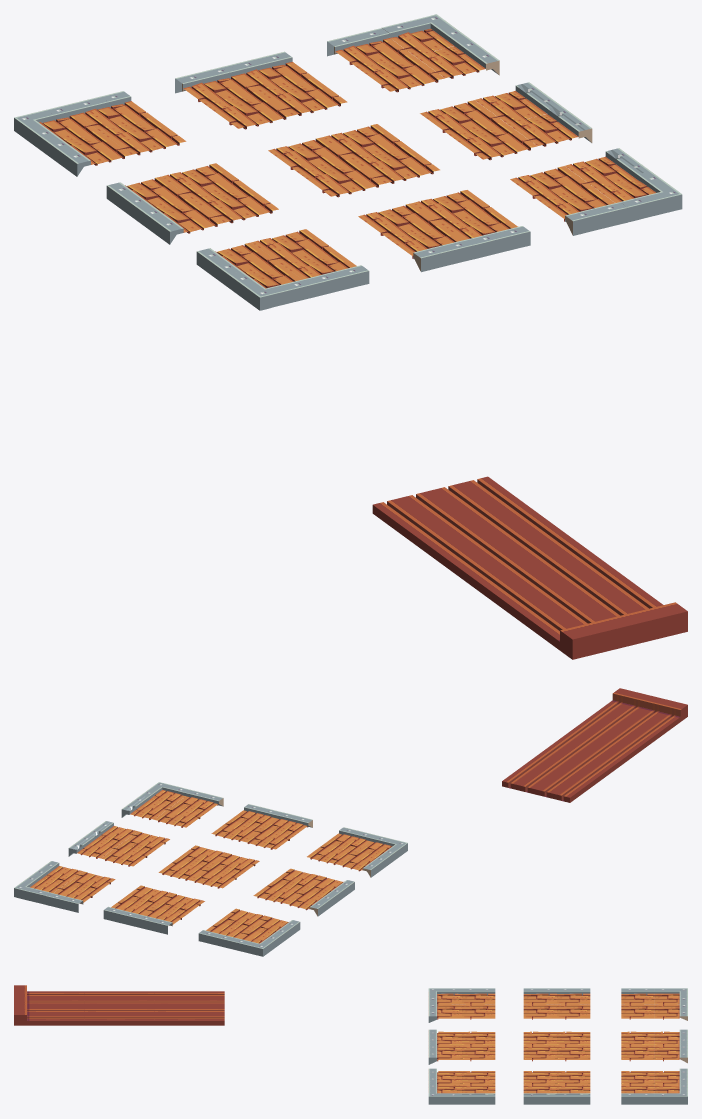
The model's file is TileSET.fbx.
3 views of the same model, one above another, from view 1: azimuth 30°, elevation 25°; view 2: azimuth 150°, elevation 25°; view 3: azimuth 270°, elevation 25° (orthographic). The views are drawn at different scales.
Parts seen in each view (by area): view 1: Bawahan1.002, CornerBRKayu, CornerTRKayu, CornerBLKayu, RightKayu, CornertTLKayu, BottomKayu, LeftKayu, TopKayu, Kayu; view 2: Bawahan1.002, CornerBLKayu, CornertTLKayu, LeftKayu, CornerBRKayu, CornerTRKayu, BottomKayu, RightKayu, TopKayu, Kayu; view 3: Bawahan1.002, CornerTRKayu, TopKayu, CornertTLKayu, CornerBRKayu, BottomKayu, CornerBLKayu, RightKayu, LeftKayu, Kayu.
Part boxes in pixels (bbox=[...]): Bawahan1.002: bbox=[372, 476, 687, 659]; CornerBRKayu: bbox=[196, 229, 369, 310]; CornerTRKayu: bbox=[510, 148, 682, 235]; CornerBLKayu: bbox=[14, 91, 186, 176]; RightKayu: bbox=[358, 190, 530, 272]; CornertTLKayu: bbox=[327, 14, 499, 92]; BottomKayu: bbox=[106, 163, 278, 244]; LeftKayu: bbox=[175, 51, 347, 129]; TopKayu: bbox=[420, 82, 592, 160]; Kayu: bbox=[268, 124, 439, 197]; Bawahan1.002: bbox=[502, 688, 687, 802]; CornerBLKayu: bbox=[198, 908, 300, 956]; CornertTLKayu: bbox=[14, 861, 115, 912]; LeftKayu: bbox=[103, 885, 204, 934]; CornerBRKayu: bbox=[307, 827, 407, 877]; CornerTRKayu: bbox=[121, 782, 223, 827]; BottomKayu: bbox=[253, 868, 354, 916]; RightKayu: bbox=[211, 804, 312, 849]; TopKayu: bbox=[68, 821, 169, 866]; Kayu: bbox=[158, 845, 259, 888]; Bawahan1.002: bbox=[14, 985, 224, 1025]; CornerTRKayu: bbox=[428, 1068, 495, 1104]; TopKayu: bbox=[523, 1071, 590, 1104]; CornertTLKayu: bbox=[621, 1068, 687, 1104]; CornerBRKayu: bbox=[428, 988, 495, 1022]; BottomKayu: bbox=[523, 988, 590, 1019]; CornerBLKayu: bbox=[621, 988, 687, 1020]; RightKayu: bbox=[428, 1029, 495, 1064]; LeftKayu: bbox=[621, 1029, 687, 1063]; Kayu: bbox=[523, 1031, 590, 1061].
Bounding box in the file's own units: 436 × 45.38 × 960.
Materials: 12 (12 with a texture image).
